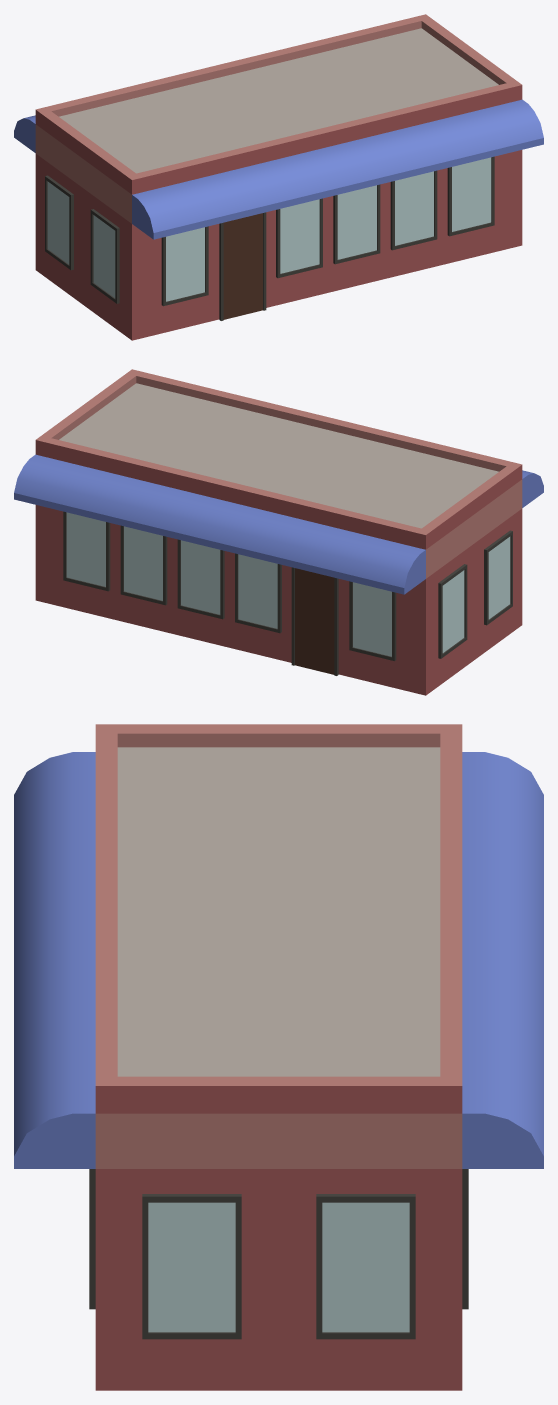
Rendered from building_medium.fbx.
3 views of the same model, one above another, from view 1: azimuth 30°, elevation 25°; view 2: azimuth 150°, elevation 25°; view 3: azimuth 270°, elevation 25° (orthographic). The views are drawn at different scales.
Parts seen in each view (by area): view 1: roof2, building, awning1, door1, window, window7, window5, window4, window6, window2, window3, awning2; view 2: roof2, building, awning2, door2, window12, window10, window8, window11, window9, window3, window2, awning1; view 3: roof2, building, awning1, awning2, window13, window1, window12, window.
Boxes of the visible parts, bbox=[...] form: roof2: bbox=[35, 14, 522, 194]; building: bbox=[35, 124, 522, 340]; awning1: bbox=[132, 99, 543, 239]; door1: bbox=[219, 212, 266, 320]; window: bbox=[447, 156, 494, 236]; window7: bbox=[161, 226, 208, 306]; window5: bbox=[333, 184, 380, 264]; window4: bbox=[390, 170, 437, 250]; window6: bbox=[276, 198, 322, 278]; window2: bbox=[90, 209, 119, 303]; window3: bbox=[45, 175, 73, 270]; awning2: bbox=[14, 115, 35, 152]; roof2: bbox=[35, 369, 522, 549]; building: bbox=[35, 479, 522, 695]; awning2: bbox=[14, 454, 425, 594]; door2: bbox=[291, 567, 338, 675]; window12: bbox=[63, 511, 110, 591]; window10: bbox=[177, 539, 224, 619]; window8: bbox=[349, 581, 396, 661]; window11: bbox=[120, 525, 167, 605]; window9: bbox=[235, 553, 281, 633]; window3: bbox=[438, 564, 467, 658]; window2: bbox=[484, 530, 512, 625]; awning1: bbox=[522, 470, 543, 507]; roof2: bbox=[95, 724, 462, 1113]; building: bbox=[95, 1113, 462, 1390]; awning1: bbox=[14, 752, 95, 1168]; awning2: bbox=[462, 752, 543, 1168]; window13: bbox=[142, 1194, 241, 1339]; window1: bbox=[316, 1194, 415, 1339]; window12: bbox=[462, 1169, 468, 1309]; window: bbox=[89, 1169, 95, 1309].
Bounding box in the file's own units: 1421 × 550 × 867.
